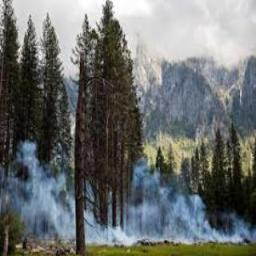Low smoke: (5, 142, 253, 246)
